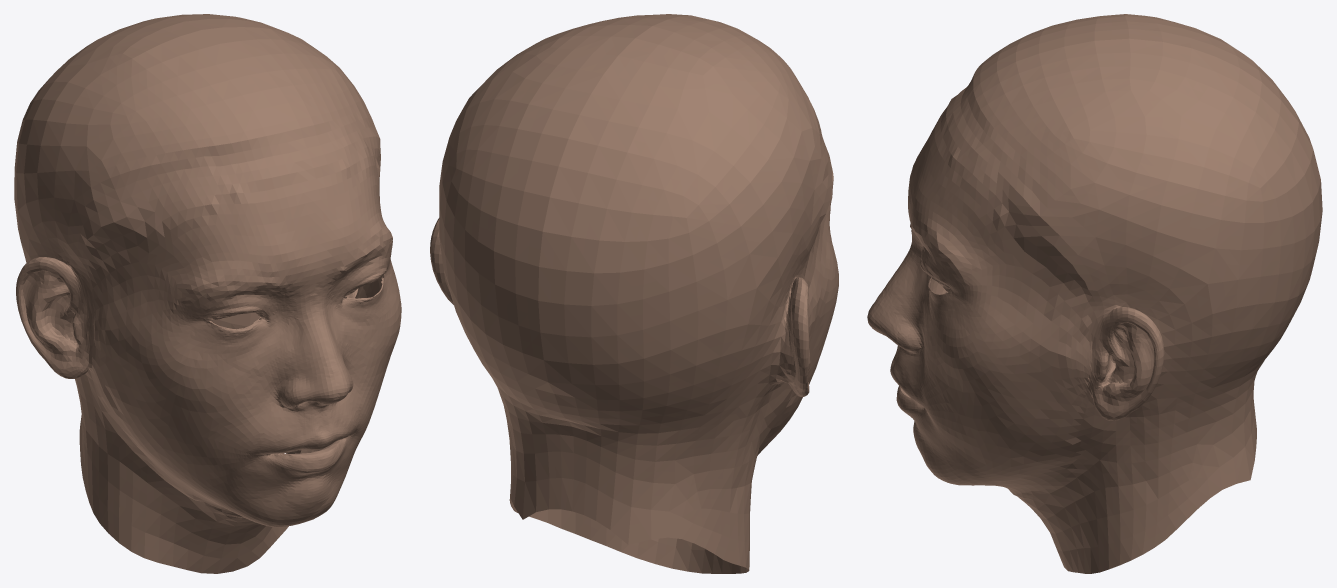
The model's file is initial_flame.obj.
3 renders of one model, left to right at view 1: azimuth 30°, elevation 25°; view 2: azimuth 150°, elevation 25°; view 3: azimuth 270°, elevation 25°, orthographic. The views are drawn at different scales.
Bounding box in the file's own units: 1.42 × 2.02 × 1.59.
